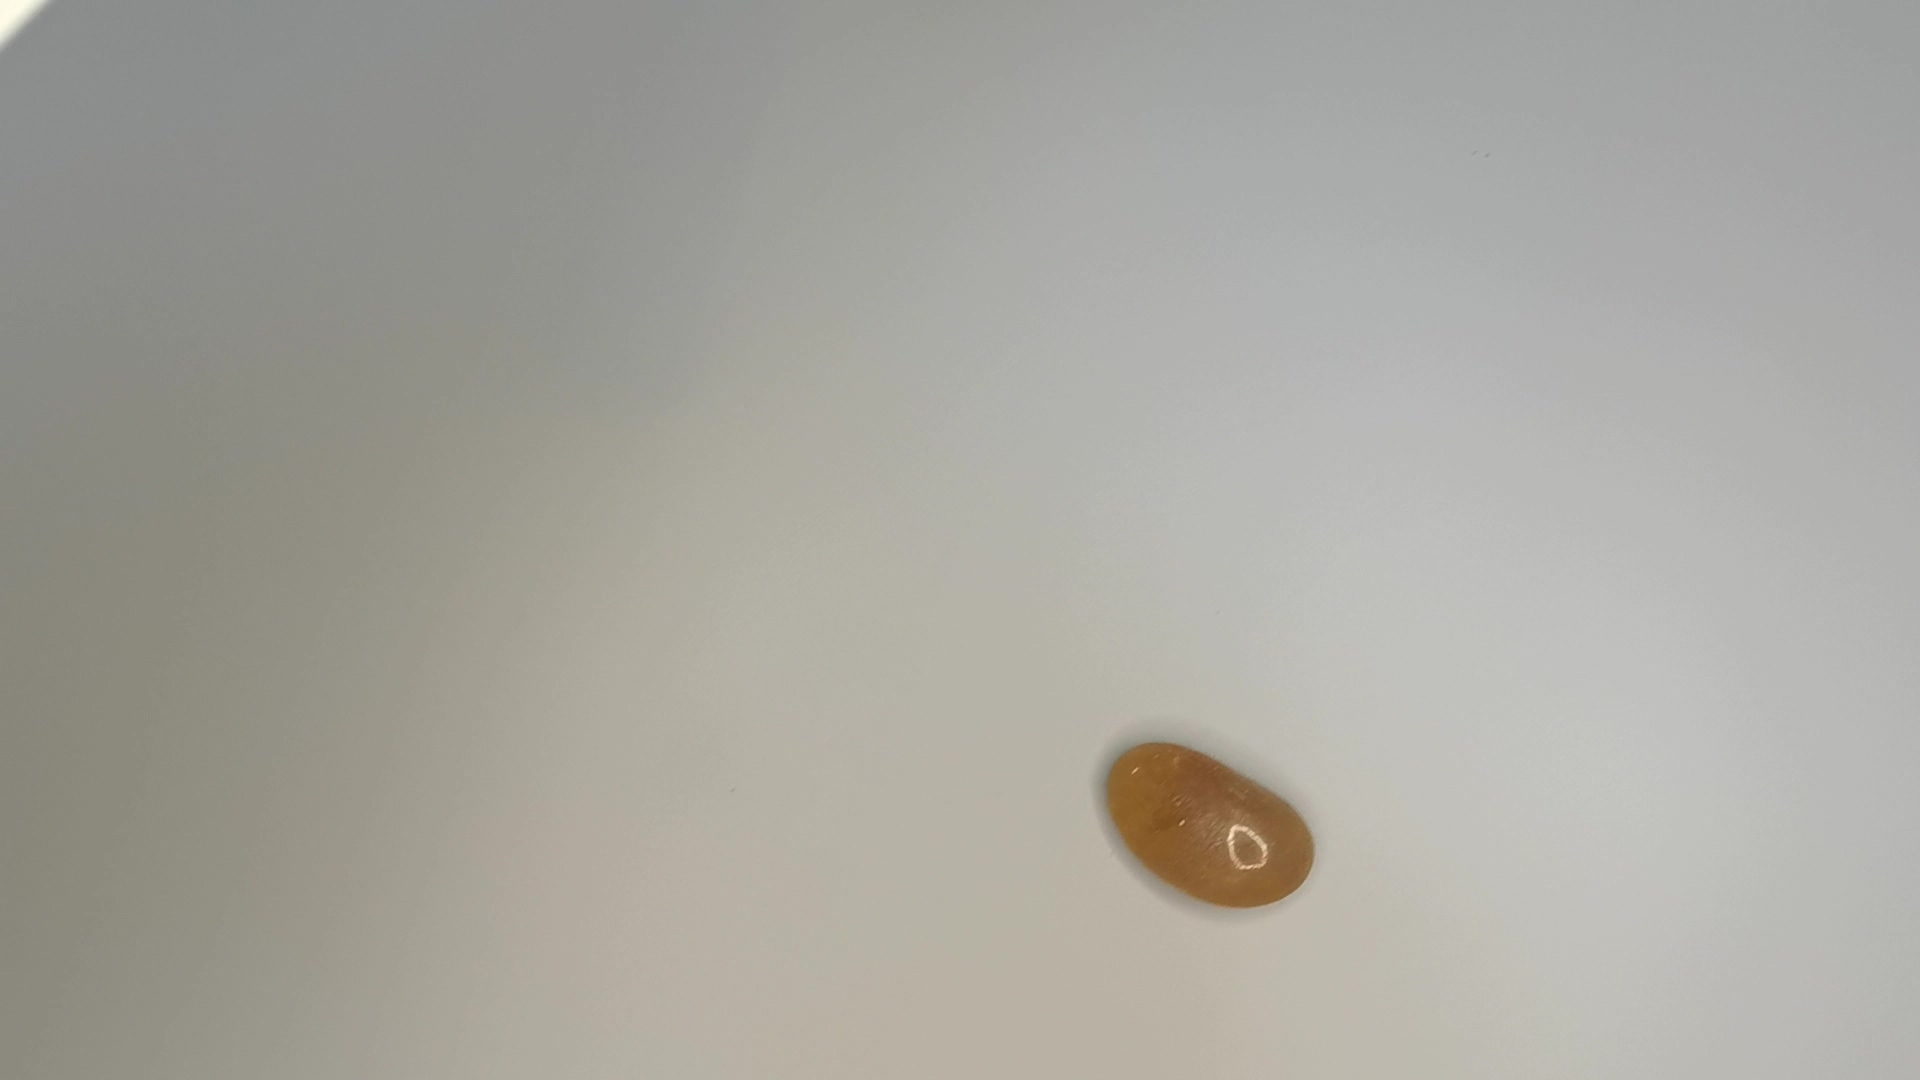ceramic: (1101, 737, 1321, 915)
